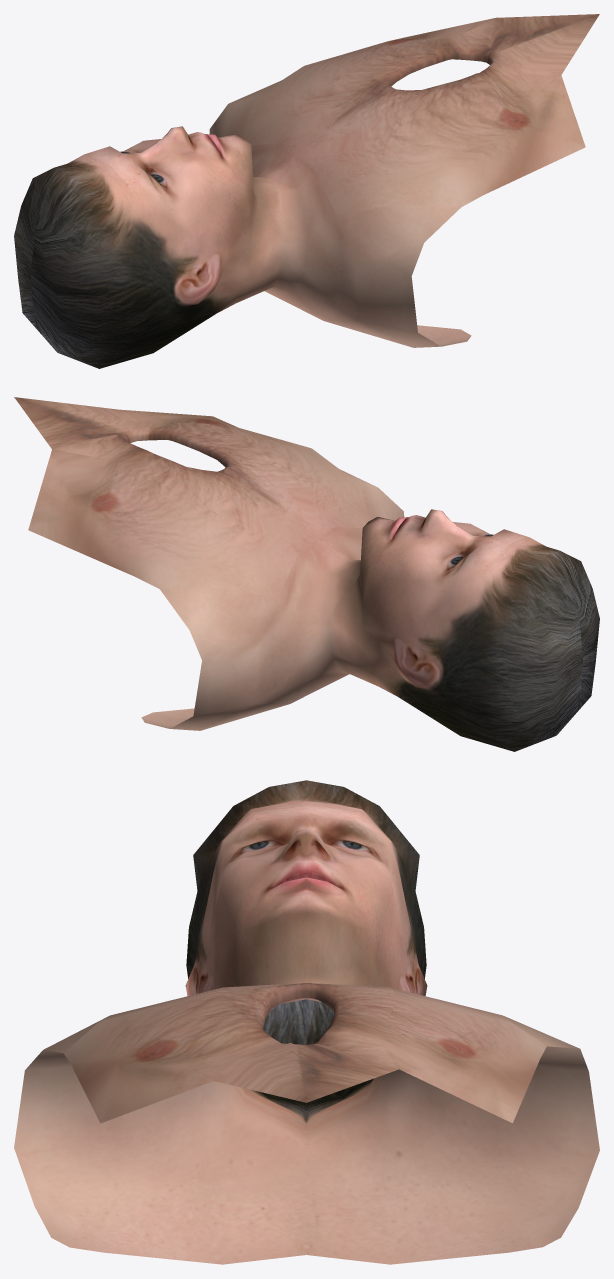
File: Patient.fbx
3 renders of one model, top to bottom at view 1: azimuth 30°, elevation 25°; view 2: azimuth 150°, elevation 25°; view 3: azimuth 270°, elevation 25°, orthographic. The views are drawn at different scales.
Visible parts, largest first — view 1: Patient_Mesh; view 2: Patient_Mesh; view 3: Patient_Mesh.
Part boxes in pixels (x1,y1,x2,y2): Patient_Mesh: (14,14,599,368); Patient_Mesh: (14,397,599,751); Patient_Mesh: (14,780,599,1264).
Size of the model in its own units: 1.66 by 0.6416 by 1.06.
